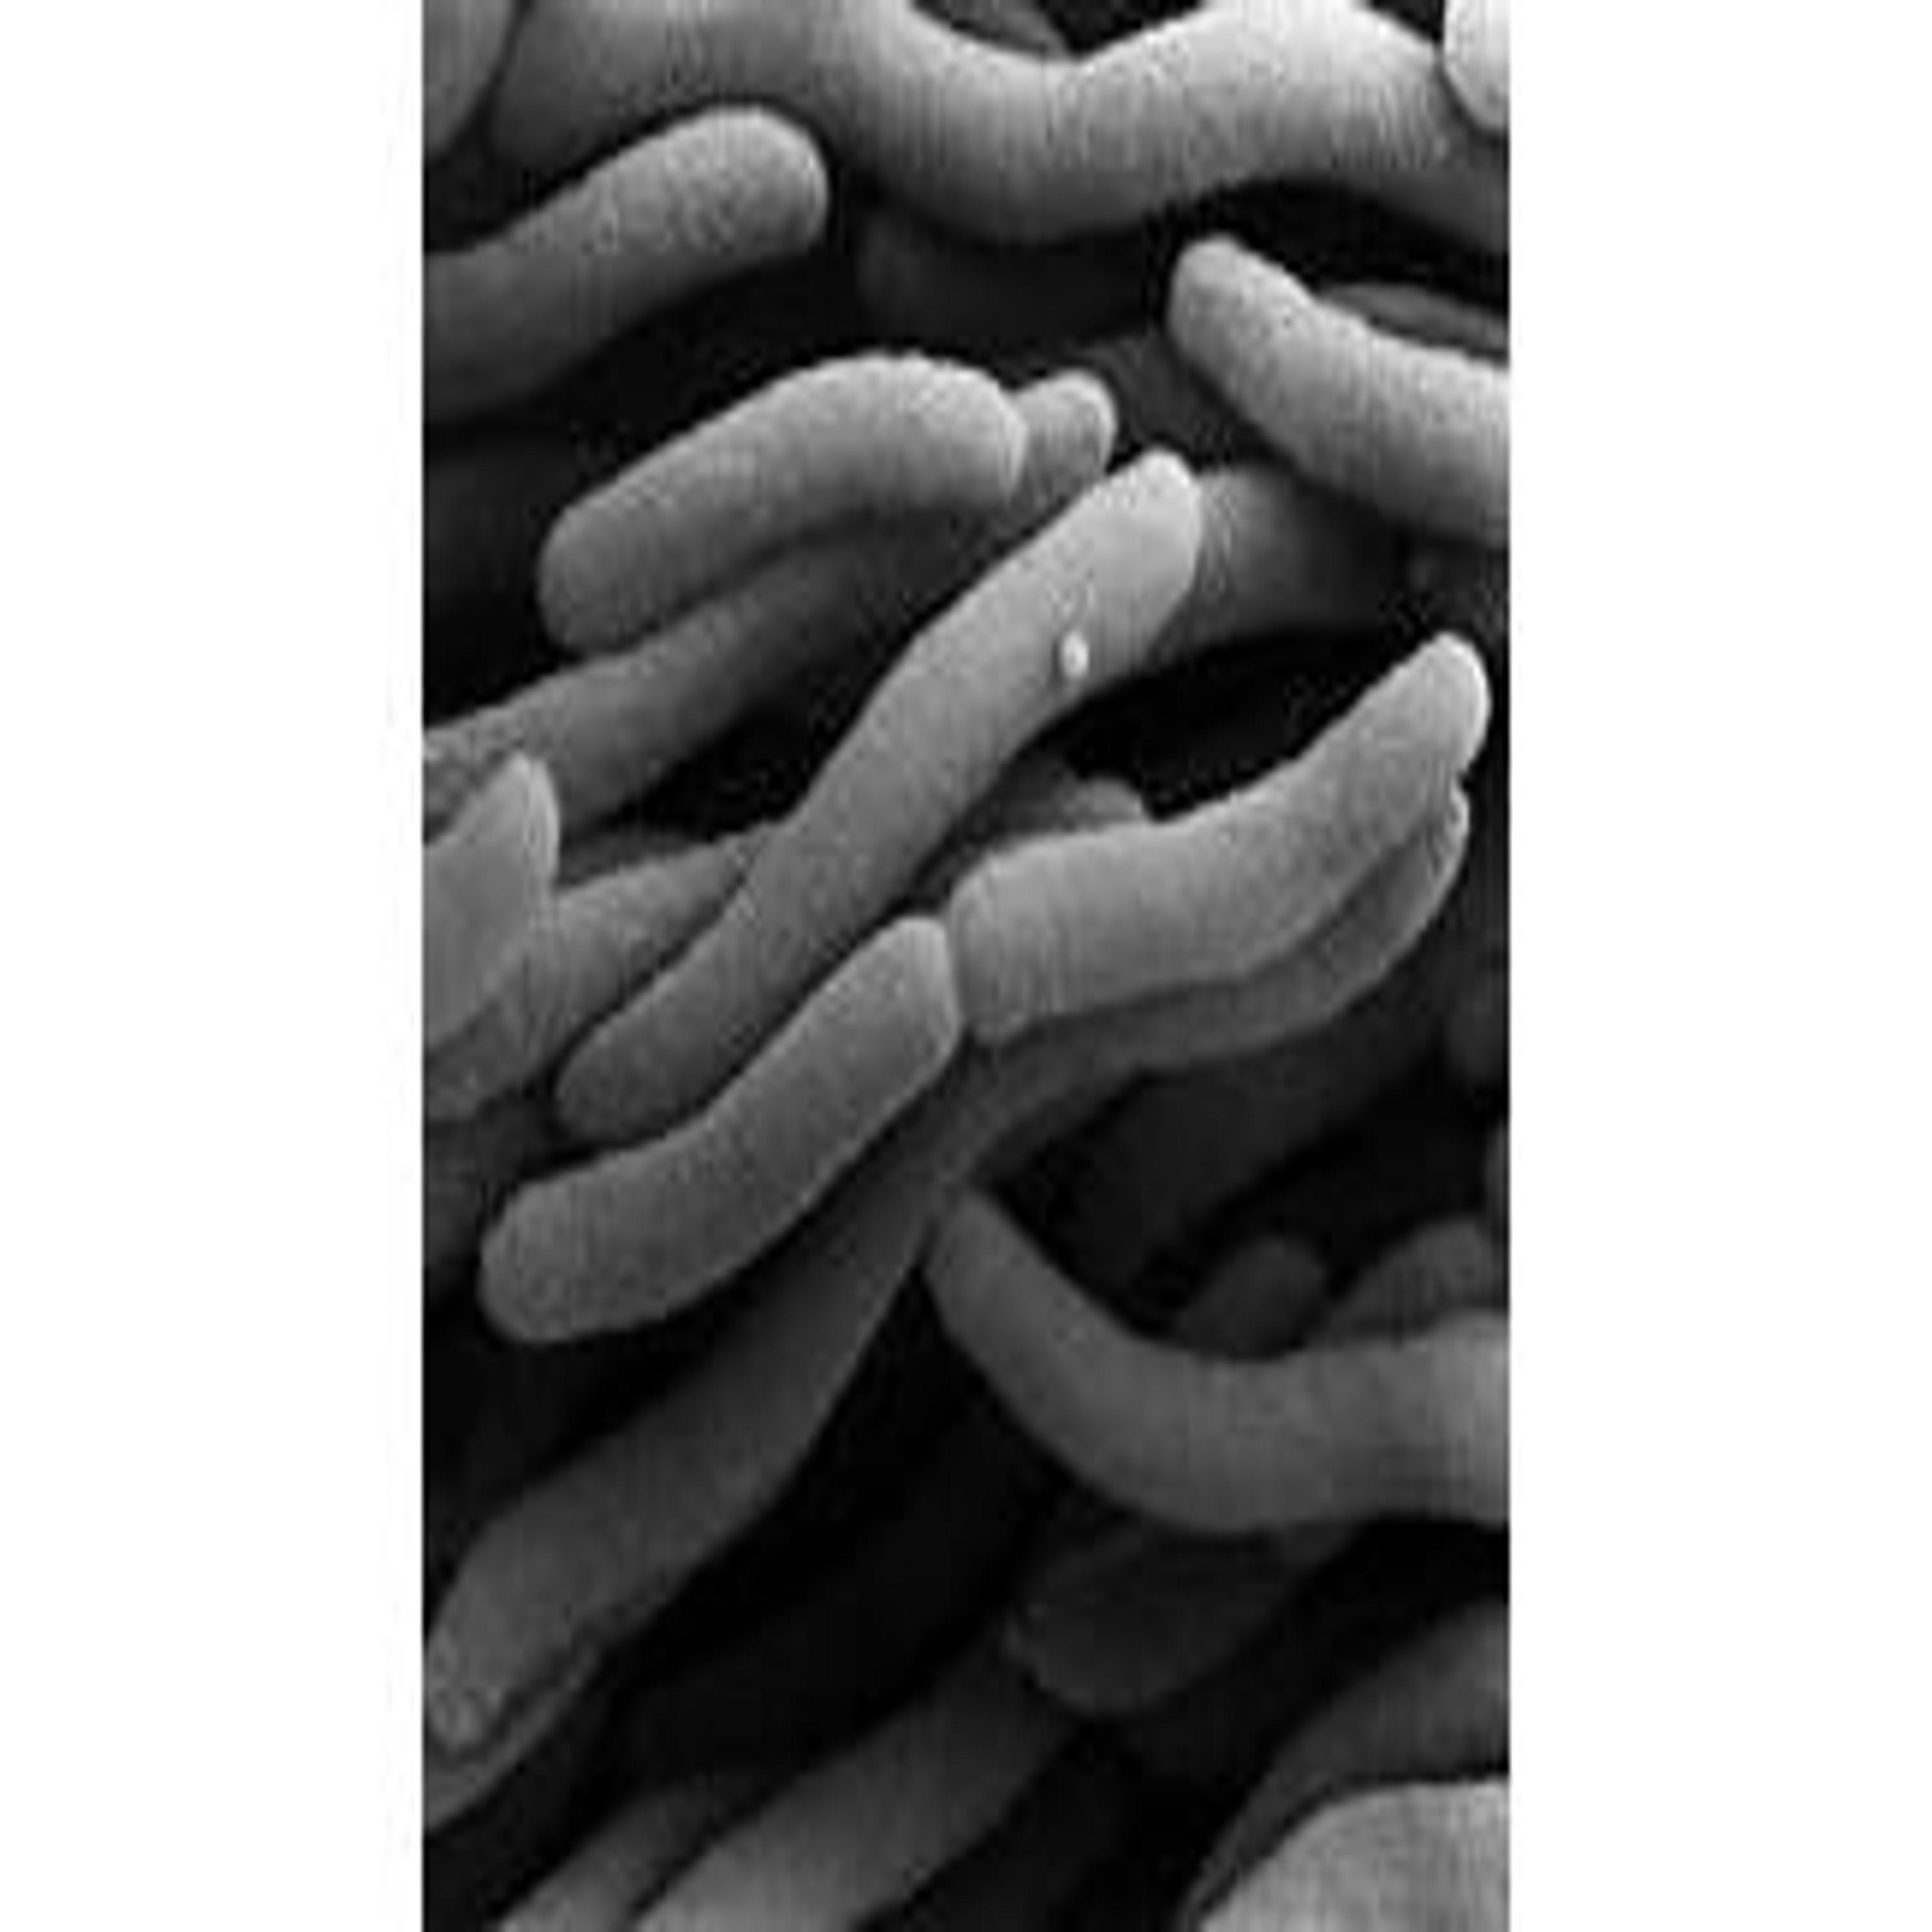Vibrio_cholerae5: (961, 625, 1495, 1046), (483, 909, 964, 1348), (538, 345, 1023, 646), (1169, 232, 1513, 536)
